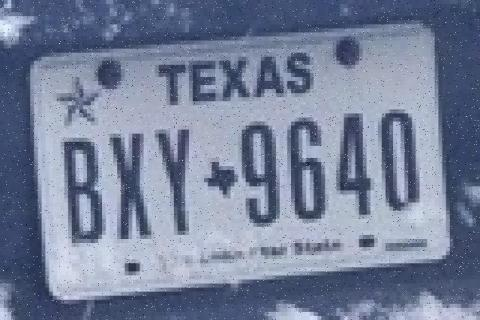LicensePlate: (23, 21, 474, 312)
